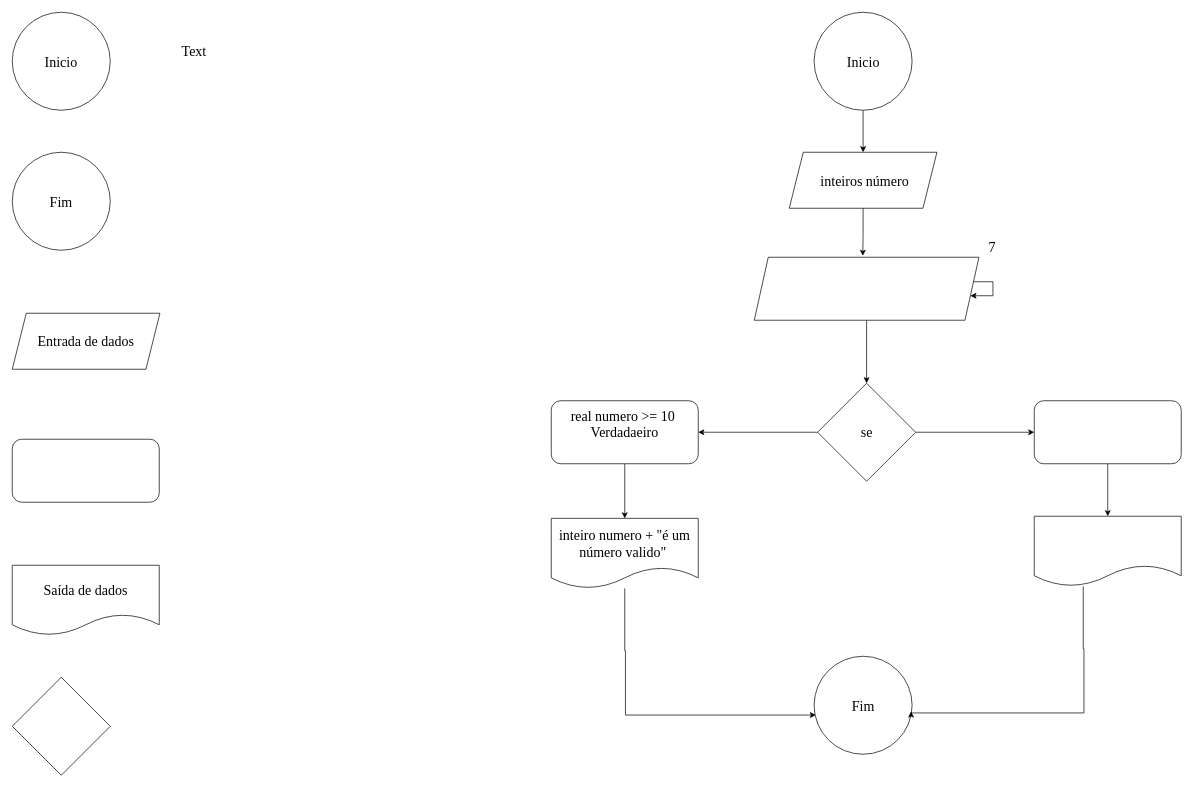
This 1194x788 diagram has some shape labels left out. The centre of each missing label's shape, as x and y in pixels:
"Digite um numero entre 1 e 10": (x=866, y=288)
Decisão: (x=61, y=726)
inteiro numero + "não é um número valido": (x=1107, y=551)
Procedimento: (x=85, y=470)
real numero < =1 Falso: (x=1107, y=432)
